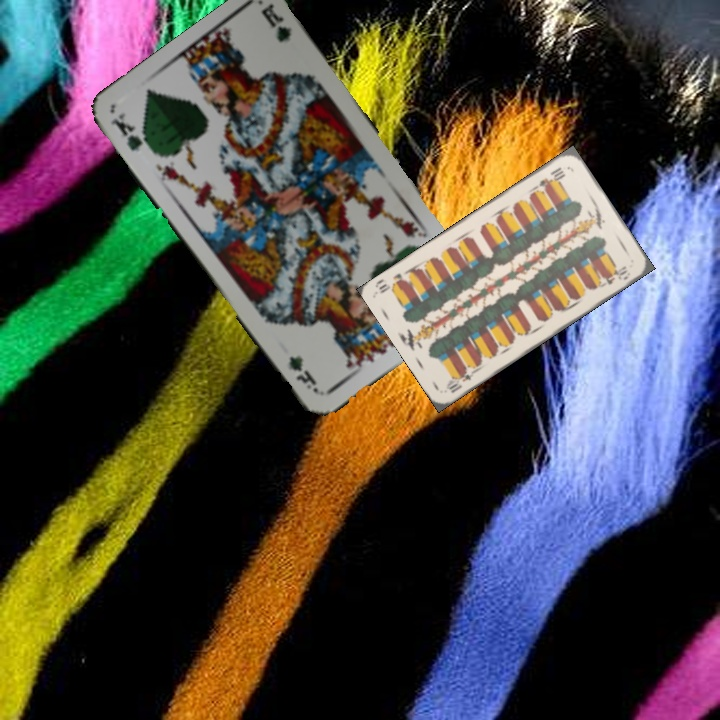E10: (442, 365, 478, 396), (535, 163, 568, 191)
GK: (106, 108, 156, 157)
